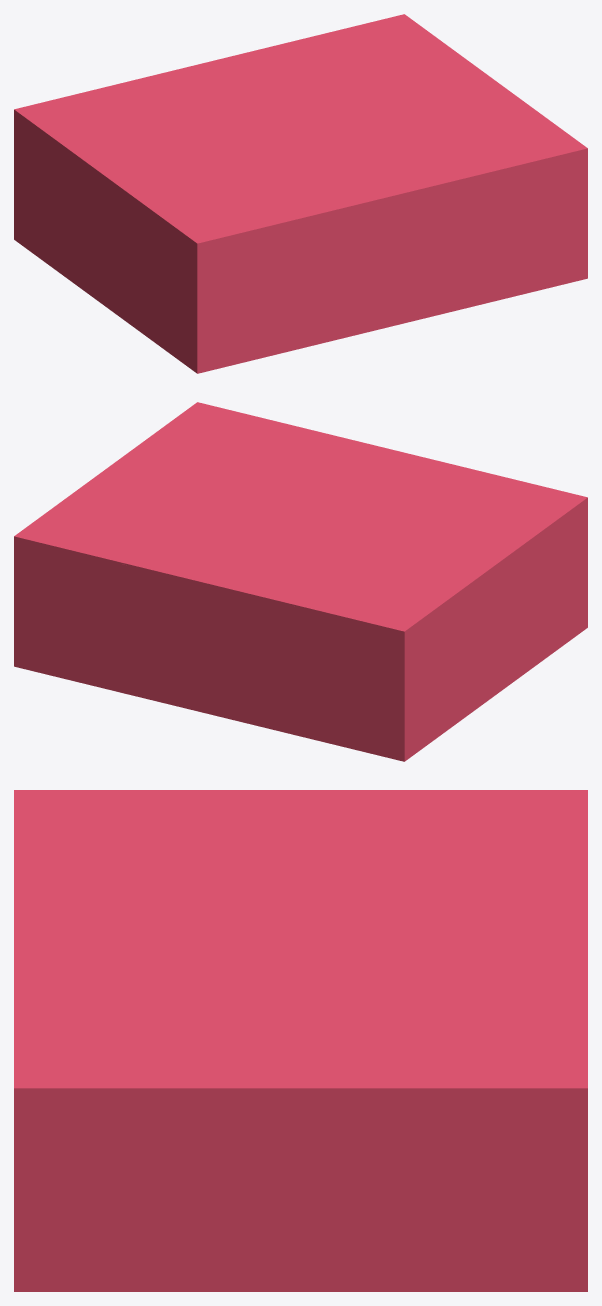
The model's file is pit-zone.glb.
3 renders of one model, top to bottom at view 1: azimuth 30°, elevation 25°; view 2: azimuth 150°, elevation 25°; view 3: azimuth 270°, elevation 25°, orthographic. The views are drawn at different scales.
Parts seen in each view (by area): view 1: part; view 2: part; view 3: part.
Part boxes in pixels (box(x1,y1,x2,y2)): part: box(14, 14, 587, 373); part: box(14, 402, 587, 761); part: box(14, 790, 587, 1291).
Bounding box in the file's own units: 2950 × 940 × 2400.
